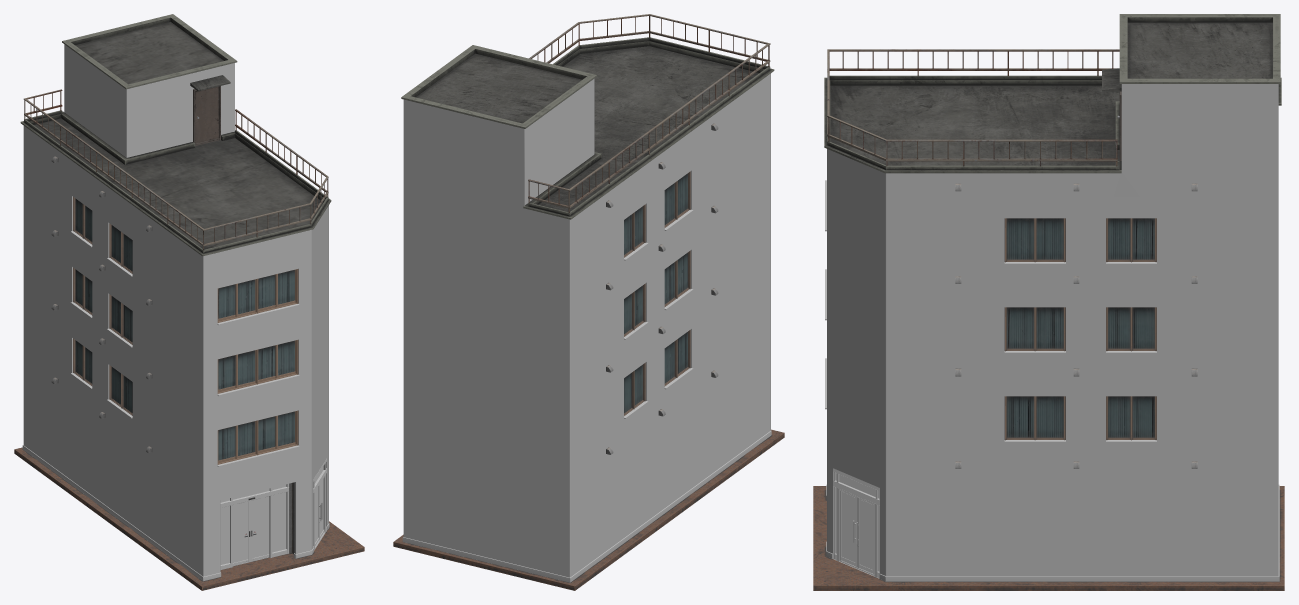
File: BldH.fbx
3 views of the same model, side by side, from view 1: azimuth 30°, elevation 25°; view 2: azimuth 150°, elevation 25°; view 3: azimuth 270°, elevation 25° (orthographic). The views are drawn at different scales.
Parts seen in each view (by area): view 1: BldH_LOD0; view 2: BldH_LOD0; view 3: BldH_LOD0.
Boxes of the visible parts, x1,y1,x2,y2 form: BldH_LOD0: [14, 14, 364, 590]; BldH_LOD0: [393, 14, 784, 590]; BldH_LOD0: [813, 14, 1284, 590].
Bounding box in the file's own units: 600 × 1420 × 1200.
